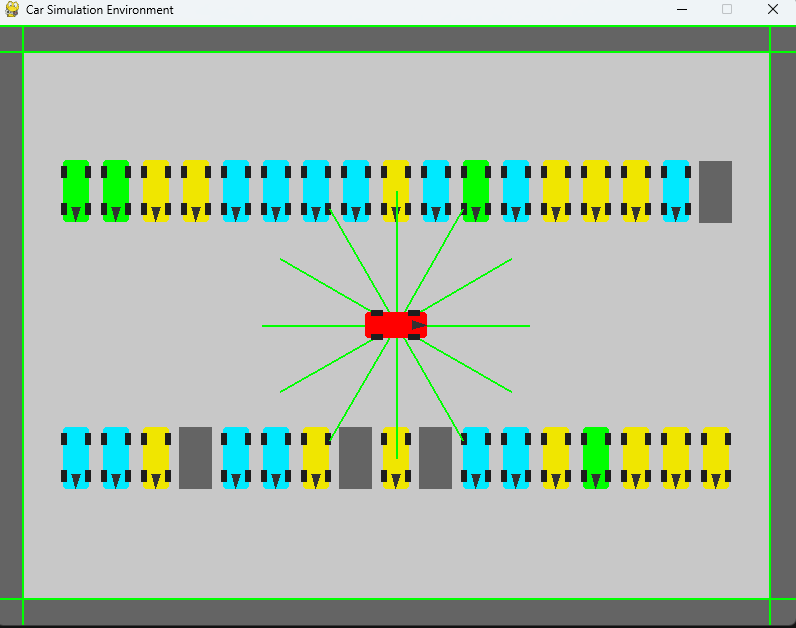ControlledCar: (359, 302, 429, 354)
ParkedCar: (658, 418, 695, 496), (377, 426, 419, 494), (457, 418, 495, 493), (296, 153, 335, 226), (497, 155, 534, 227), (377, 157, 416, 225), (579, 157, 617, 226), (97, 424, 135, 493), (458, 155, 497, 222), (699, 422, 736, 490), (500, 422, 534, 494), (619, 420, 653, 492), (98, 158, 135, 224), (139, 157, 175, 224), (58, 157, 93, 225), (57, 422, 92, 489), (420, 156, 454, 224), (540, 422, 574, 490), (298, 424, 333, 489), (658, 156, 691, 224), (219, 159, 254, 223), (619, 157, 651, 227), (259, 159, 293, 224), (259, 424, 290, 495), (540, 155, 572, 223), (140, 426, 174, 490), (220, 426, 254, 490), (179, 153, 210, 223), (581, 423, 612, 489), (341, 159, 372, 222)
ParkingSpot: (695, 157, 736, 229), (336, 422, 377, 493), (177, 420, 215, 495), (418, 423, 454, 495)
